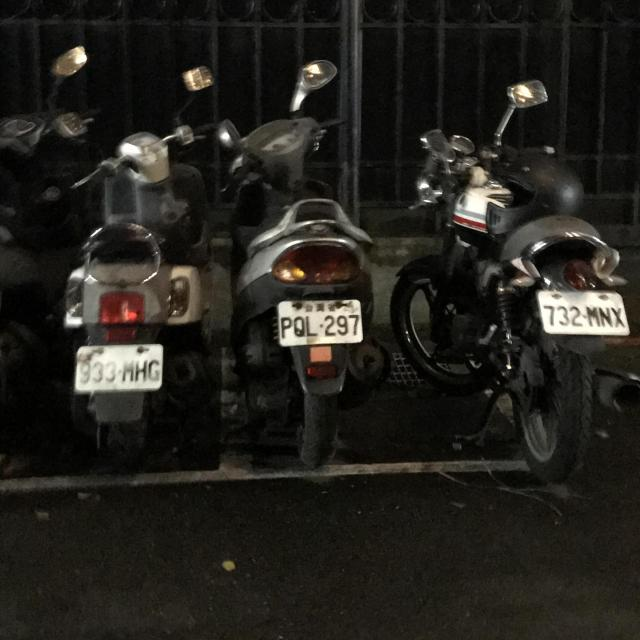W: (69, 336, 172, 400), (532, 277, 633, 342), (271, 292, 368, 351)
